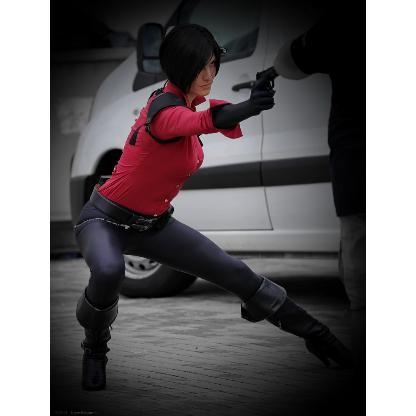gun: (256, 65, 276, 89)
